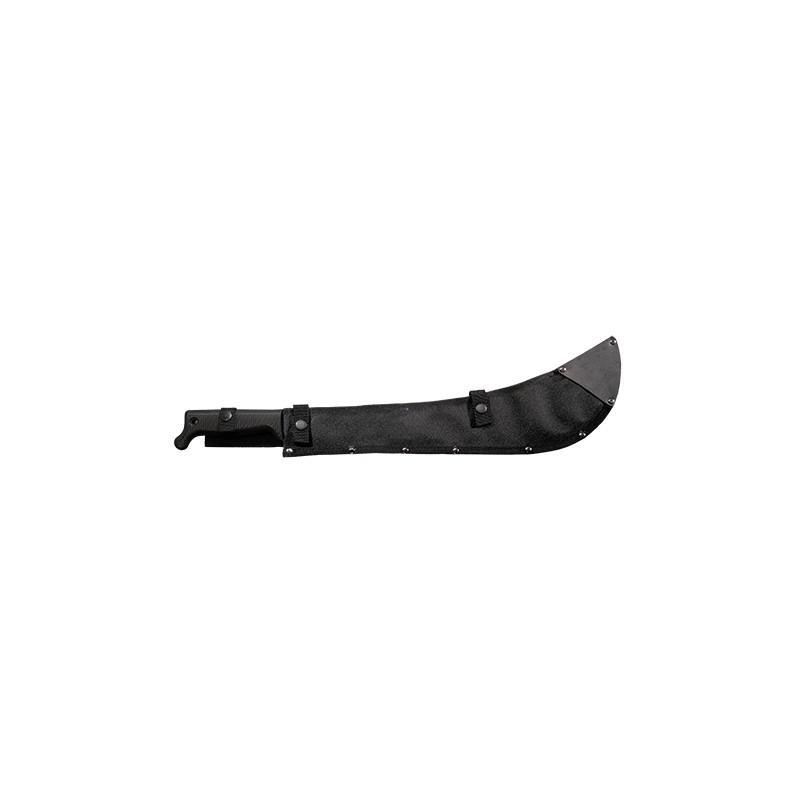facao: (116, 324, 667, 496)
